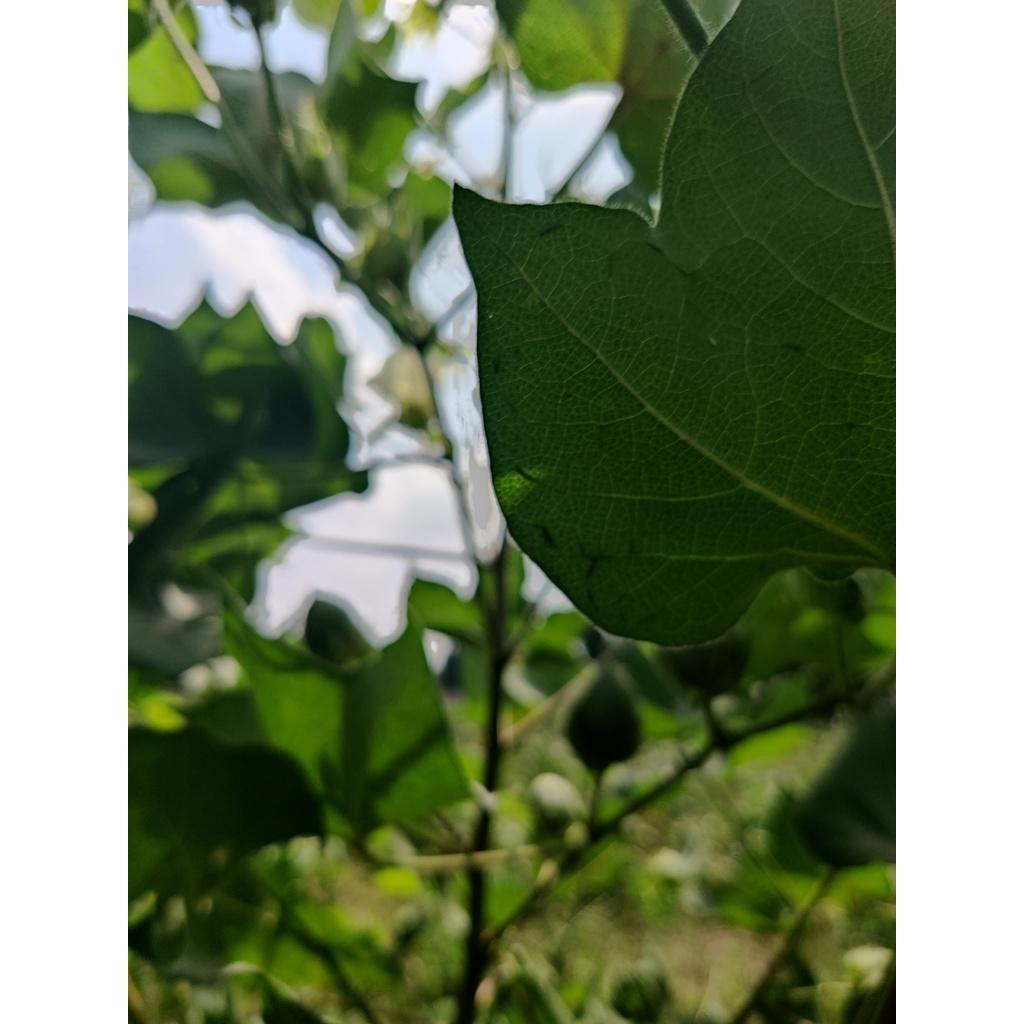adult: (709, 337, 717, 347)
